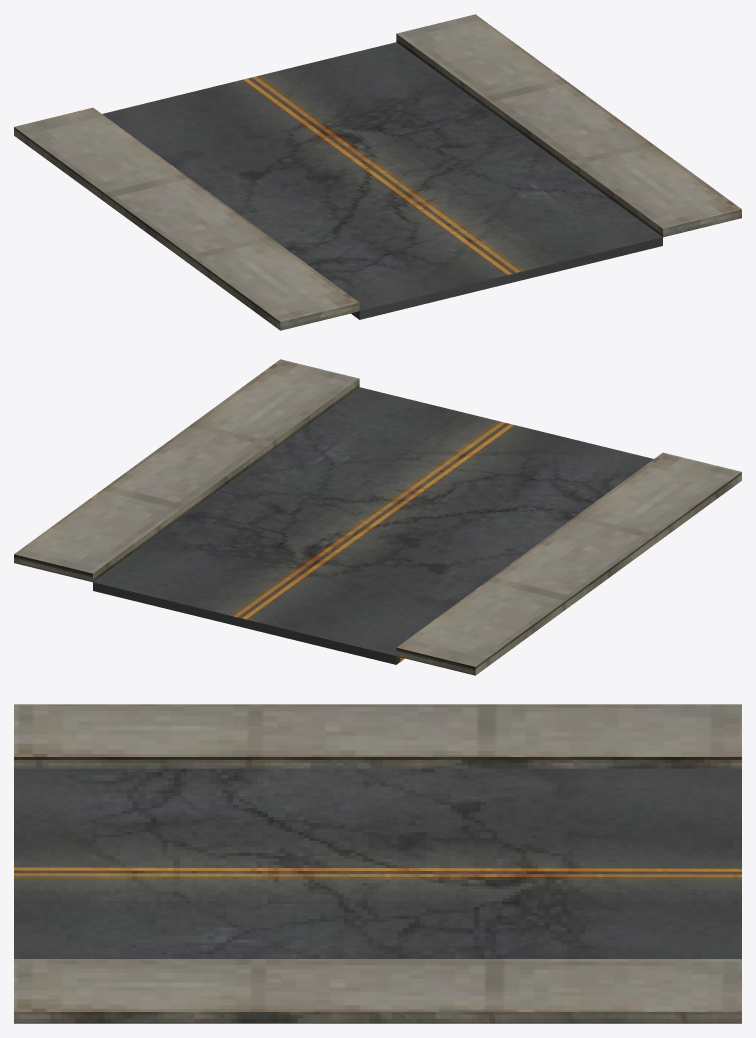
Rendered from untitleкфкd.fbx.
3 renders of one model, top to bottom at view 1: azimuth 30°, elevation 25°; view 2: azimuth 150°, elevation 25°; view 3: azimuth 270°, elevation 25°, orthographic. The views are drawn at different scales.
Visible parts, largest first — view 1: Cube; view 2: Cube; view 3: Cube.
Part boxes in pixels (box(x1,y1,x2,y2)): Cube: box(14, 14, 741, 330); Cube: box(14, 359, 741, 675); Cube: box(14, 704, 741, 1023).
Bounding box in the file's own units: 636 × 22.85 × 636.
1 material, 1 textured.
